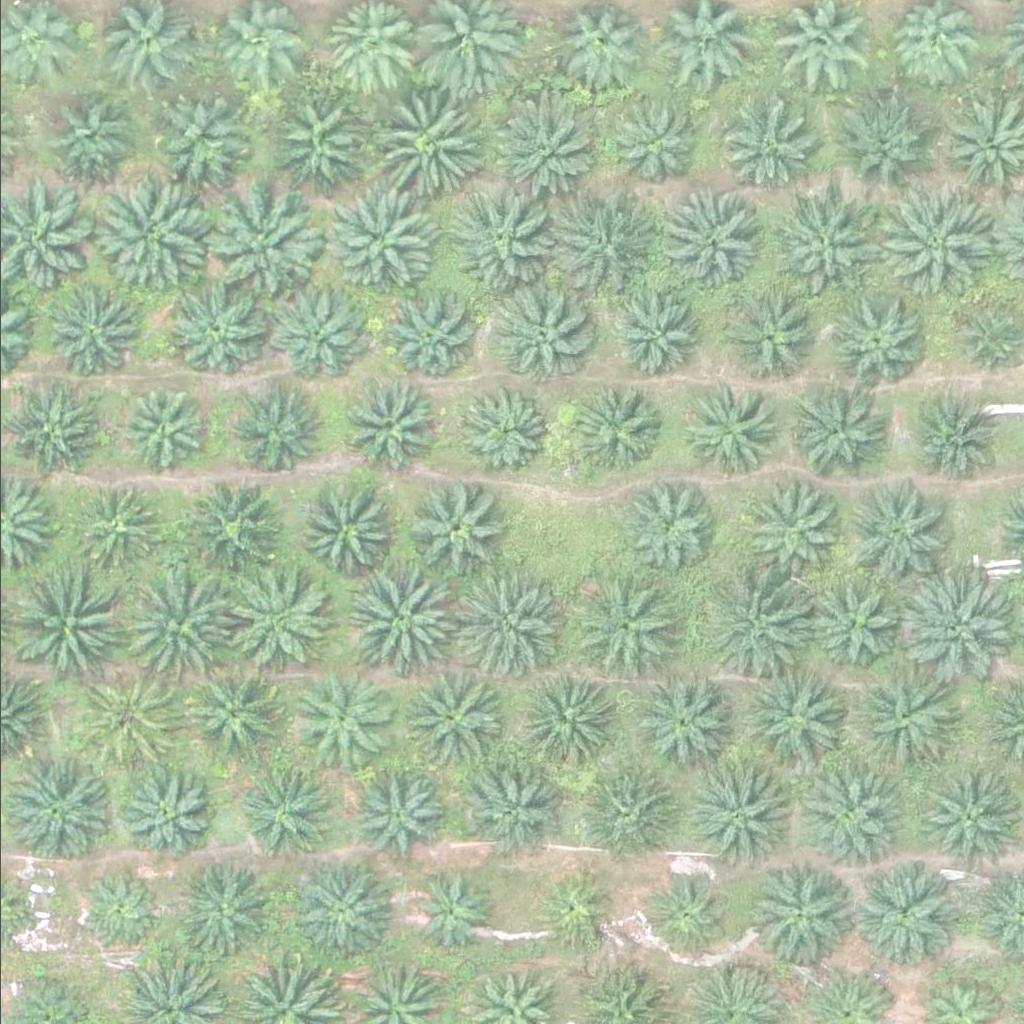Kelapa_Sawit: (490, 90, 604, 203), (871, 182, 985, 295), (442, 184, 556, 297), (696, 568, 810, 681), (560, 572, 674, 685), (120, 568, 234, 681), (549, 187, 662, 300), (894, 567, 1007, 680), (449, 565, 562, 678), (848, 665, 961, 778), (213, 562, 326, 675), (342, 568, 455, 681), (93, 176, 206, 289), (209, 189, 322, 302), (323, 180, 436, 293), (17, 570, 131, 682), (364, 84, 477, 196), (738, 665, 851, 777), (795, 763, 908, 875), (680, 759, 793, 871), (141, 77, 254, 189), (764, 191, 865, 291), (655, 193, 756, 293), (720, 291, 821, 391), (675, 380, 776, 480), (404, 480, 505, 580), (611, 475, 712, 575), (736, 478, 837, 578), (844, 486, 945, 586), (797, 571, 898, 671), (516, 676, 617, 776), (633, 676, 734, 776), (913, 765, 1014, 865), (569, 760, 670, 860), (460, 765, 561, 865), (749, 863, 850, 963), (285, 858, 386, 958), (172, 860, 273, 960), (113, 762, 214, 862), (295, 668, 396, 768), (185, 665, 286, 765), (167, 280, 268, 380), (41, 278, 142, 378), (261, 98, 362, 198), (605, 90, 705, 190), (718, 97, 818, 197), (826, 96, 926, 196), (494, 291, 594, 391), (826, 290, 926, 390), (899, 391, 999, 491), (783, 384, 883, 484), (562, 384, 662, 484), (373, 283, 473, 383), (403, 672, 503, 772), (852, 865, 952, 965), (77, 671, 177, 771), (295, 482, 395, 582), (181, 482, 281, 582), (230, 385, 330, 485), (339, 377, 439, 477), (266, 286, 366, 386), (464, 387, 552, 475), (534, 869, 622, 957), (647, 869, 735, 957), (72, 865, 160, 953), (240, 768, 328, 856), (349, 767, 437, 855), (74, 481, 162, 569), (112, 383, 200, 471), (45, 91, 133, 179), (608, 287, 696, 374), (402, 864, 490, 951), (947, 299, 1023, 374)
